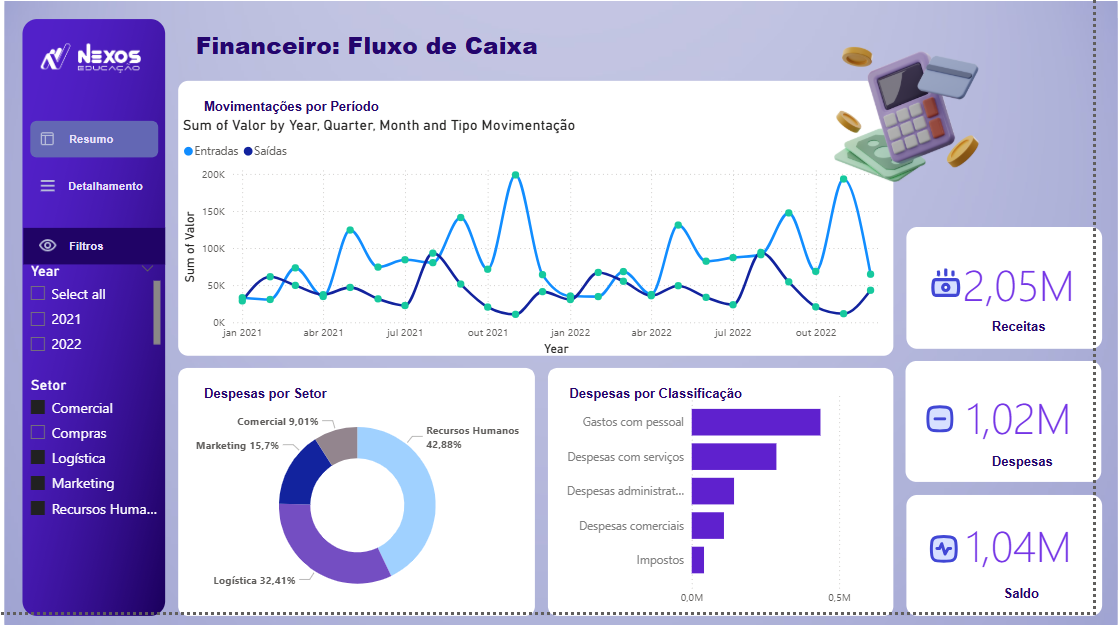

What the dashboard file says about the page in this screenshot:
{"tool":"powerbi","page":{"name":"Dash Fix ","canvas":[1280,720],"ordinal":0},"visuals":[{"type":"lineChart","fields":{"Category":["Relatorios de Movimentacoes.Data.Variation.Date Hierarchy.Year","Relatorios de Movimentacoes.Data.Variation.Date Hierarchy.Quarter","Relatorios de Movimentacoes.Data.Variation.Date Hierarchy.Month","Relatorios de Movimentacoes.Data.Variation.Date Hierarchy.Day"],"Y":["Sum(Relatorios de Movimentacoes.Valor)"],"Series":["Relatorios de Movimentacoes.Tipo Movimentação"]},"box":[229.3,150,824.1,279.3],"z":0},{"type":"clusteredBarChart","fields":{"Y":["Sum(Relatorios de Movimentacoes.Valor)"],"Category":["Relatorios de Movimentacoes.Classificação"]},"box":[656.9,456.9,384.5,263.8],"z":1},{"type":"donutChart","fields":{"Category":["CentroCusto.Setor"],"Y":["Sum(Relatorios de Movimentacoes.Valor)"]},"box":[229.3,472.4,410.3,248.3],"z":2},{"type":"card","fields":{"Values":["Sum(Relatorios de Movimentacoes.Valor)"]},"box":[1110.3,289.7,169,101.7],"z":3},{"type":"card","fields":{"Values":["Sum(Relatorios de Movimentacoes.Valor)"]},"box":[1110.3,443.1,169,101.7],"z":4},{"type":"card","fields":{"Values":["Sum(Relatorios de Movimentacoes.Saldo)"]},"box":[1110.3,589.7,169,101.7],"z":5},{"type":"slicer","fields":{"Values":["Relatorios de Movimentacoes.Data.Variation.Date Hierarchy.Year"]},"box":[46.6,312.1,167.2,117.2],"z":6},{"type":"slicer","fields":{"Values":["CentroCusto.Setor"]},"box":[46.6,443.1,167.2,260.3],"z":7}]}

Visuals, with their boxes in screenshot pixels (x1, y1, x2, y2), scaled from the page's 1280x720 canvas onto the 1120x625 screenshot:
lineChart - Relatorios de Movimentacoes.Data.Variation.Date Hierarchy.Year x Relatorios de Movimentacoes.Data.Variation.Date Hierarchy.Quarter: x1=201 y1=130 x2=922 y2=373
clusteredBarChart - Sum(Relatorios de Movimentacoes.Valor) x Relatorios de Movimentacoes.Classificação: x1=575 y1=397 x2=911 y2=624
donutChart - CentroCusto.Setor x Sum(Relatorios de Movimentacoes.Valor): x1=201 y1=410 x2=560 y2=624
card - Sum(Relatorios de Movimentacoes.Valor): x1=972 y1=251 x2=1119 y2=340
card - Sum(Relatorios de Movimentacoes.Valor): x1=972 y1=385 x2=1119 y2=473
card - Sum(Relatorios de Movimentacoes.Saldo): x1=972 y1=512 x2=1119 y2=600
slicer - Relatorios de Movimentacoes.Data.Variation.Date Hierarchy.Year: x1=41 y1=271 x2=187 y2=373
slicer - CentroCusto.Setor: x1=41 y1=385 x2=187 y2=611
